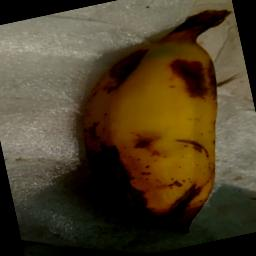Banana Overripe: (53, 0, 256, 254)
